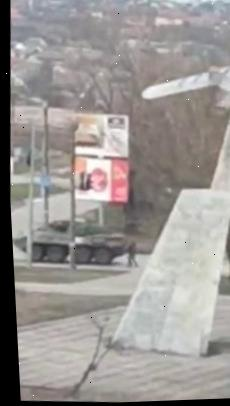person: (124, 237, 141, 272)
tank: (11, 213, 131, 270)
